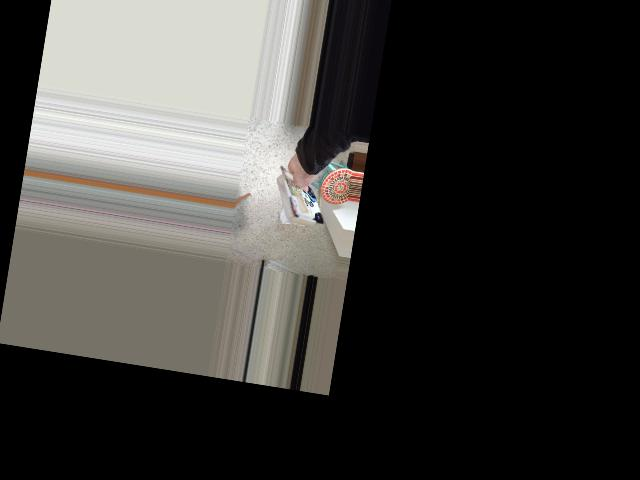cheese: (263, 151, 342, 232)
